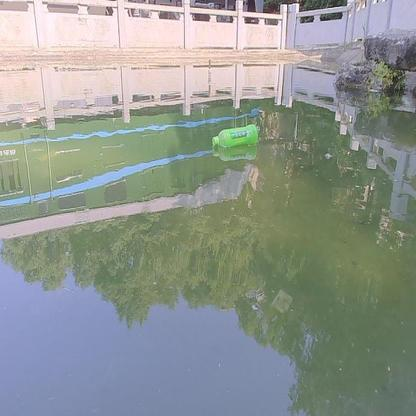plastic bottle: (211, 123, 259, 147)
